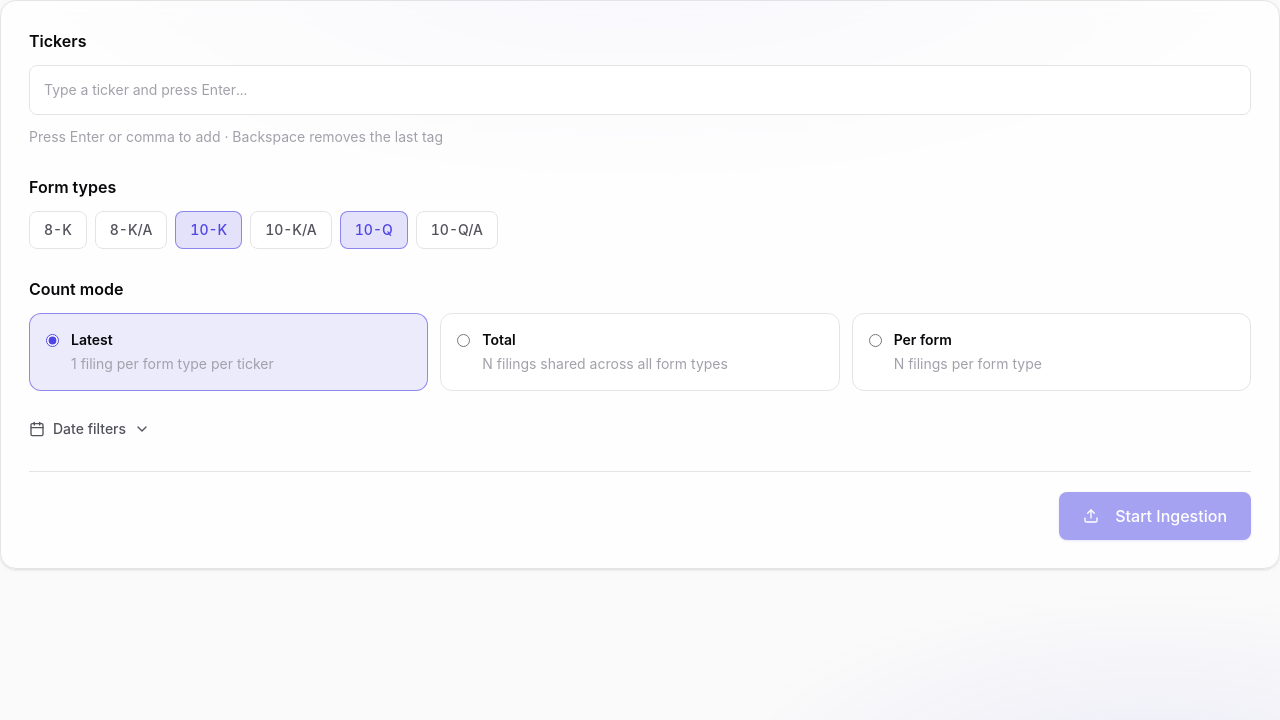
Test: IngestForm › hides count mode radio when a year filter is entered
Expected: the text "Count mode" is shown, 29,279 -> 123,299
// Open date filters and enter a year.
Click the button "Date filters".
click(90, 429)  # box 29,419 -> 150,439
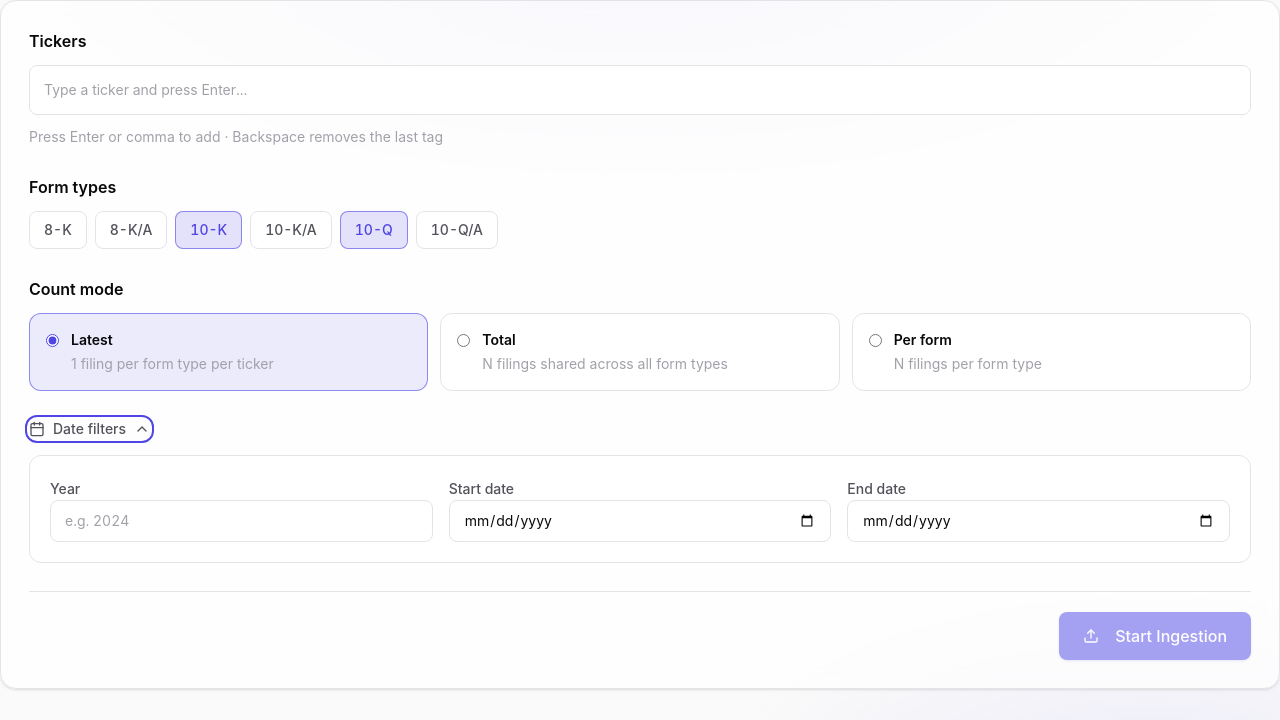
Type "2024" into the number field with placeholder "e.g. 2024".
click(241, 521); type("2024")  # box 50,500 -> 433,542
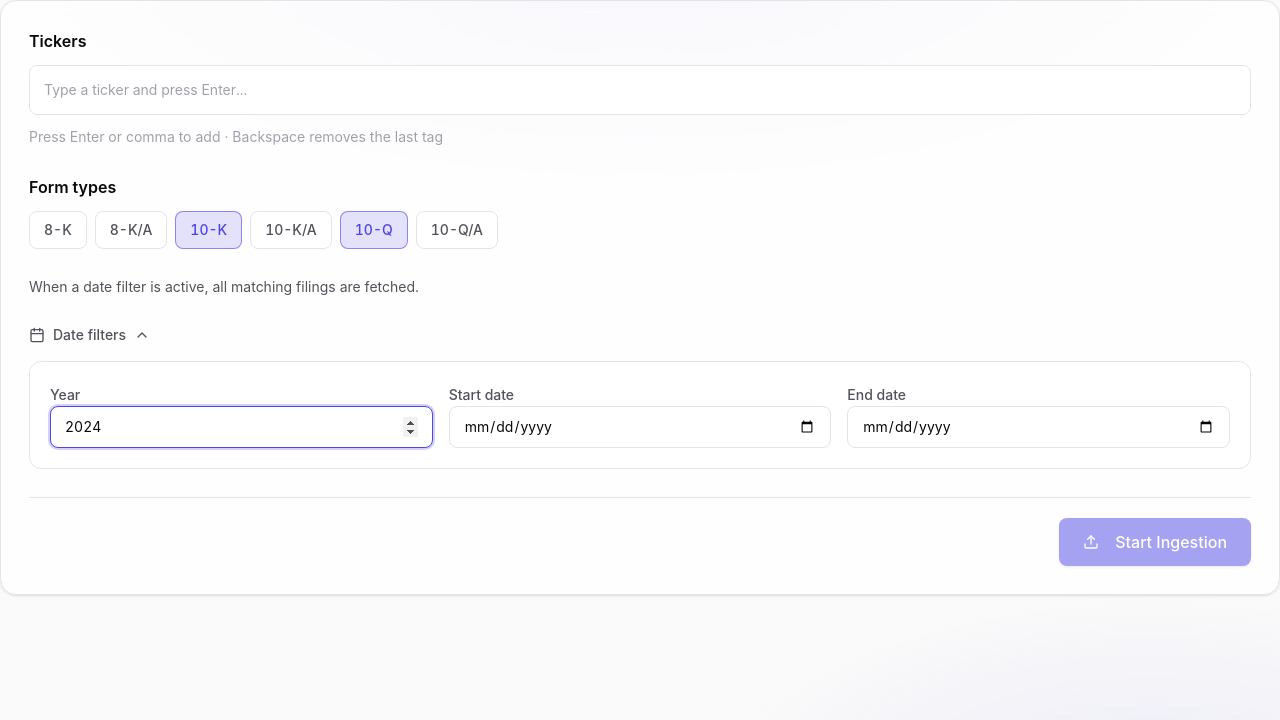
Expected: the text "Count mode" is gone
Expected: the text "When a date filter is active, all matching filings are fetched." is shown, 29,278 -> 419,295
